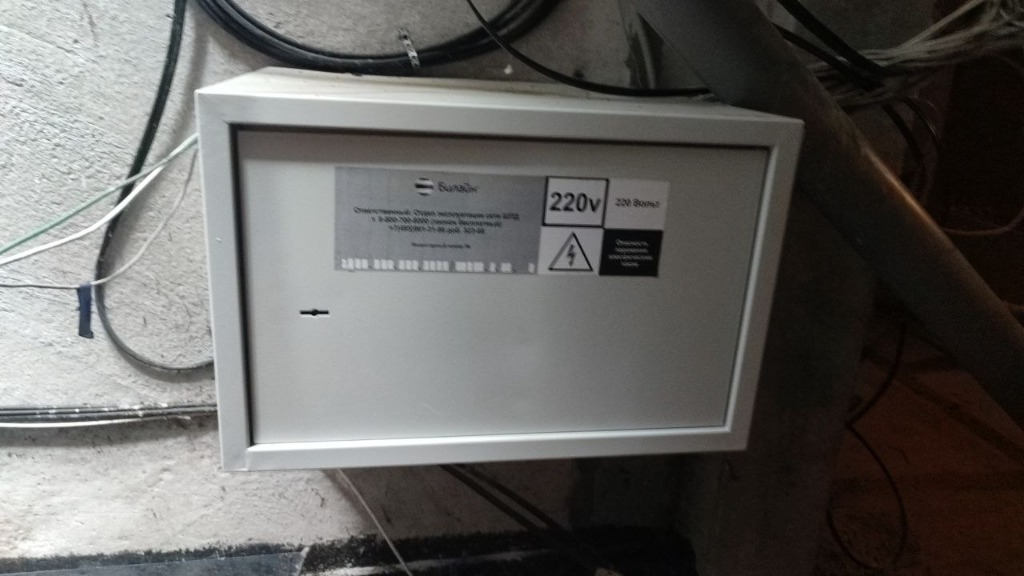shta-7m: (189, 59, 811, 473)
